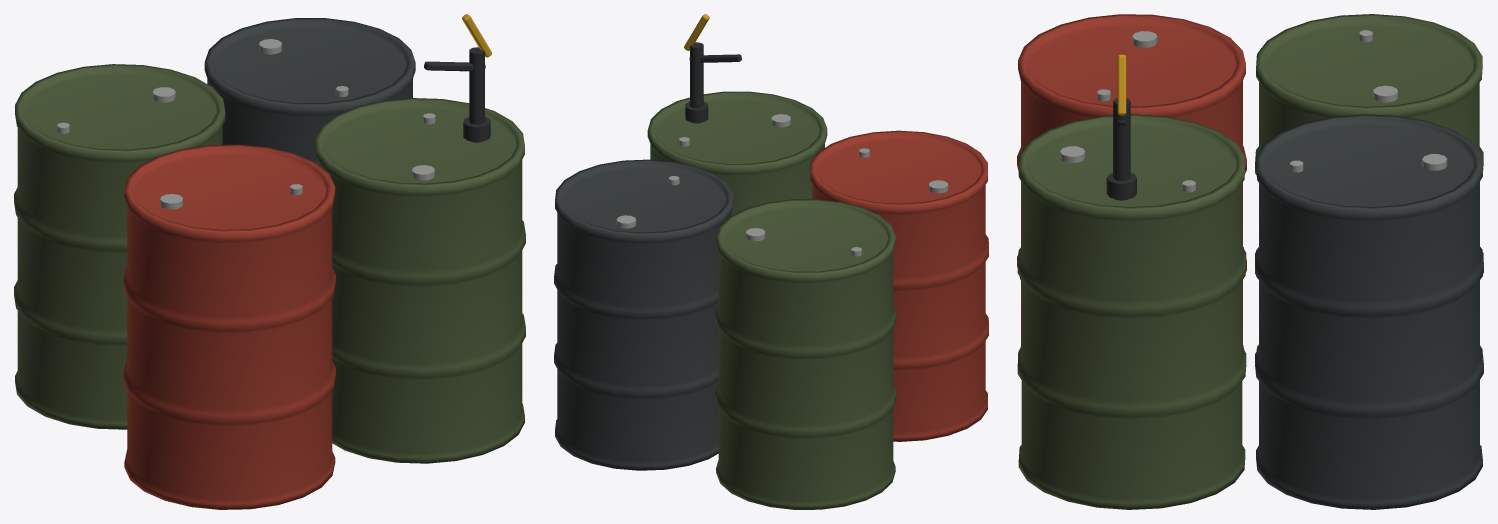
The model's file is drum.glb.
3 views of the same model, side by side, from view 1: azimuth 30°, elevation 25°; view 2: azimuth 150°, elevation 25°; view 3: azimuth 270°, elevation 25° (orthographic). The views are drawn at different scales.
Visible parts, largest first — view 1: paint-olive, paint-red, paint-graphite, steel-dark, steel; view 2: paint-olive, paint-graphite, paint-red, steel-dark, steel; view 3: paint-olive, paint-graphite, paint-red, steel, steel-dark, paint-yellow.
Part boxes in pixels (x1,y1,x2,y2): paint-olive: (14, 64, 525, 463); paint-red: (123, 144, 335, 509); paint-graphite: (204, 18, 415, 163); steel-dark: (424, 47, 490, 142); steel: (57, 39, 435, 209); paint-olive: (647, 91, 896, 509); paint-graphite: (554, 159, 733, 470); paint-red: (810, 130, 988, 441); steel-dark: (685, 42, 741, 123); steel: (616, 114, 948, 256); paint-olive: (1017, 14, 1483, 509); paint-graphite: (1255, 114, 1483, 509); paint-red: (1017, 14, 1246, 357); steel: (1060, 30, 1447, 192); steel-dark: (1106, 98, 1136, 200); paint-yellow: (1117, 54, 1126, 115).
Bounding box in the file's own units: 1.85 × 1.89 × 1.85.
